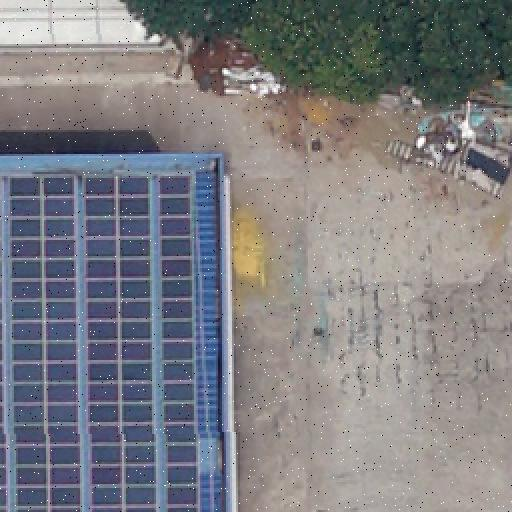solar-panel: (82, 176, 158, 512), (10, 176, 82, 512), (160, 176, 200, 512), (0, 184, 8, 512)
